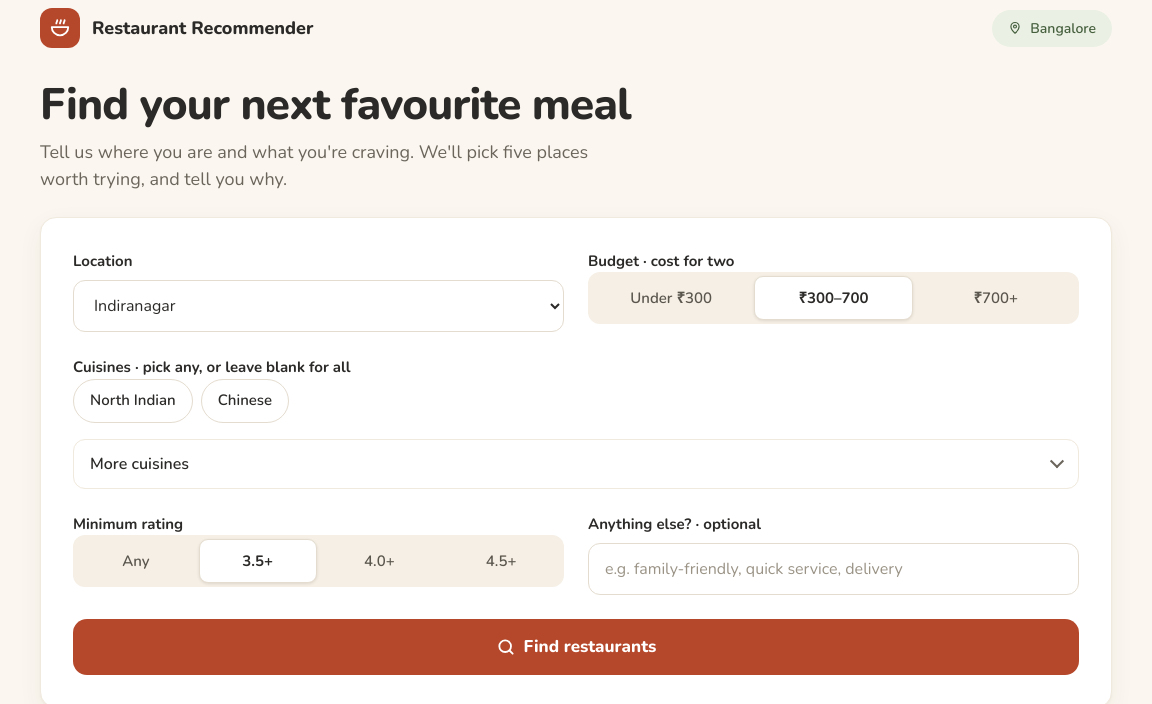
Test: Recommender › shows a timeout message
Click the button "Find restaurants" at (576, 647), box [73,619,1079,675]
(page scrolled)
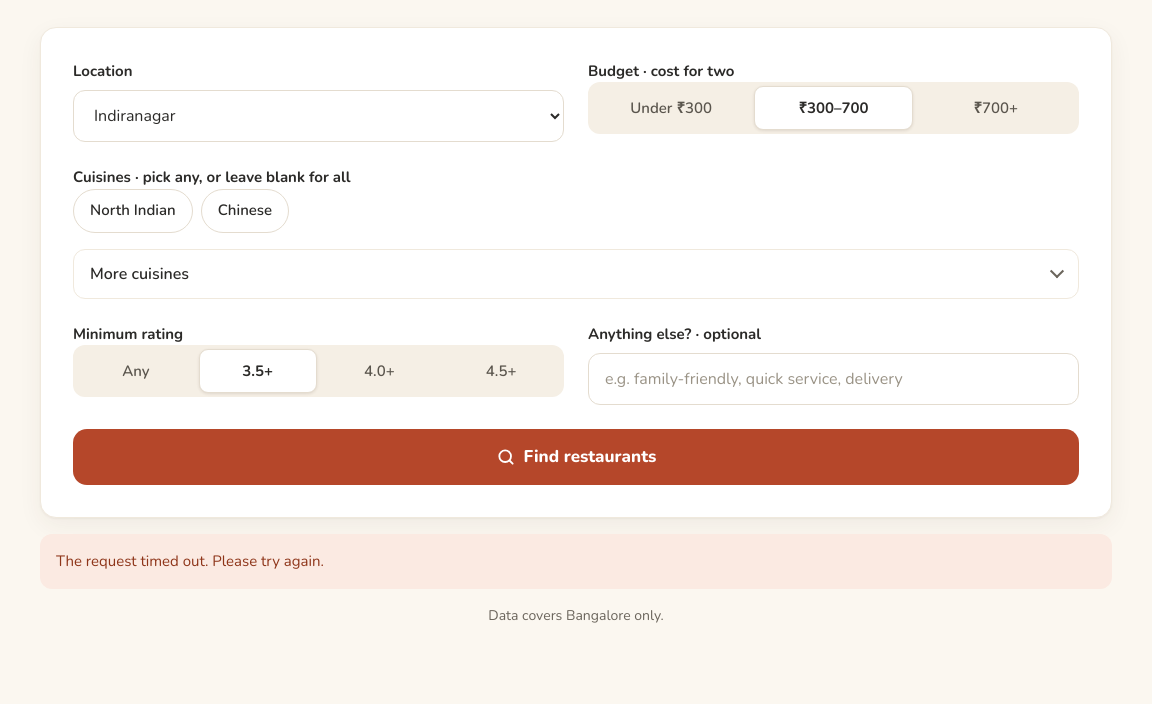
expect the message reads "The request timed out. Please try again.": met, box [56,551,324,571]
